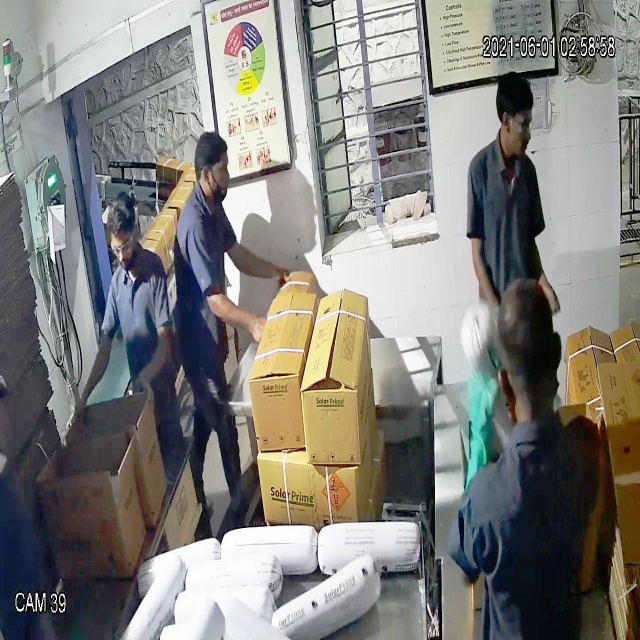Gafas: (106, 228, 139, 265)
